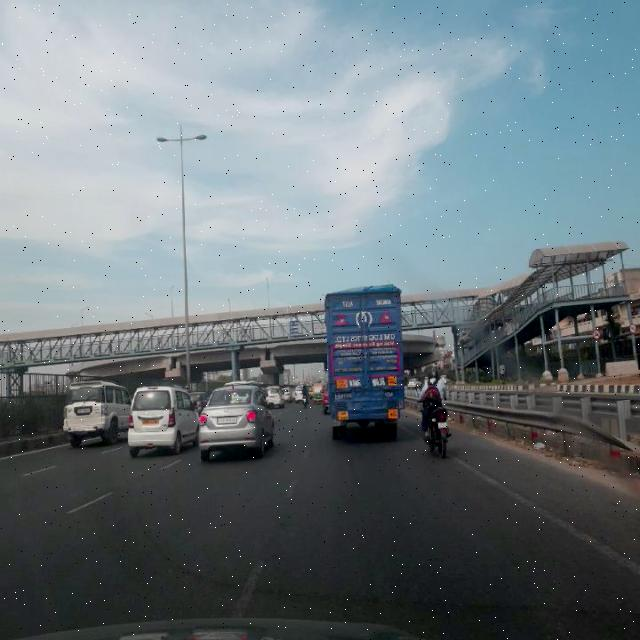D44: (236, 530, 274, 612)
